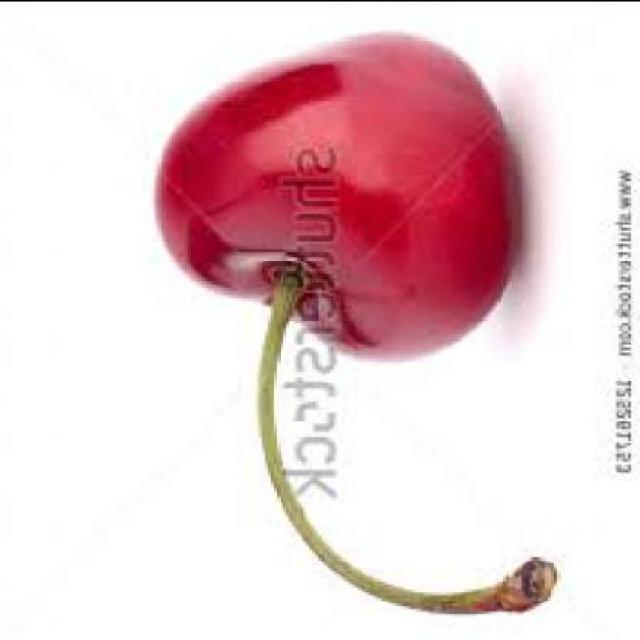BIODEGRADABLE: (148, 27, 521, 359)
